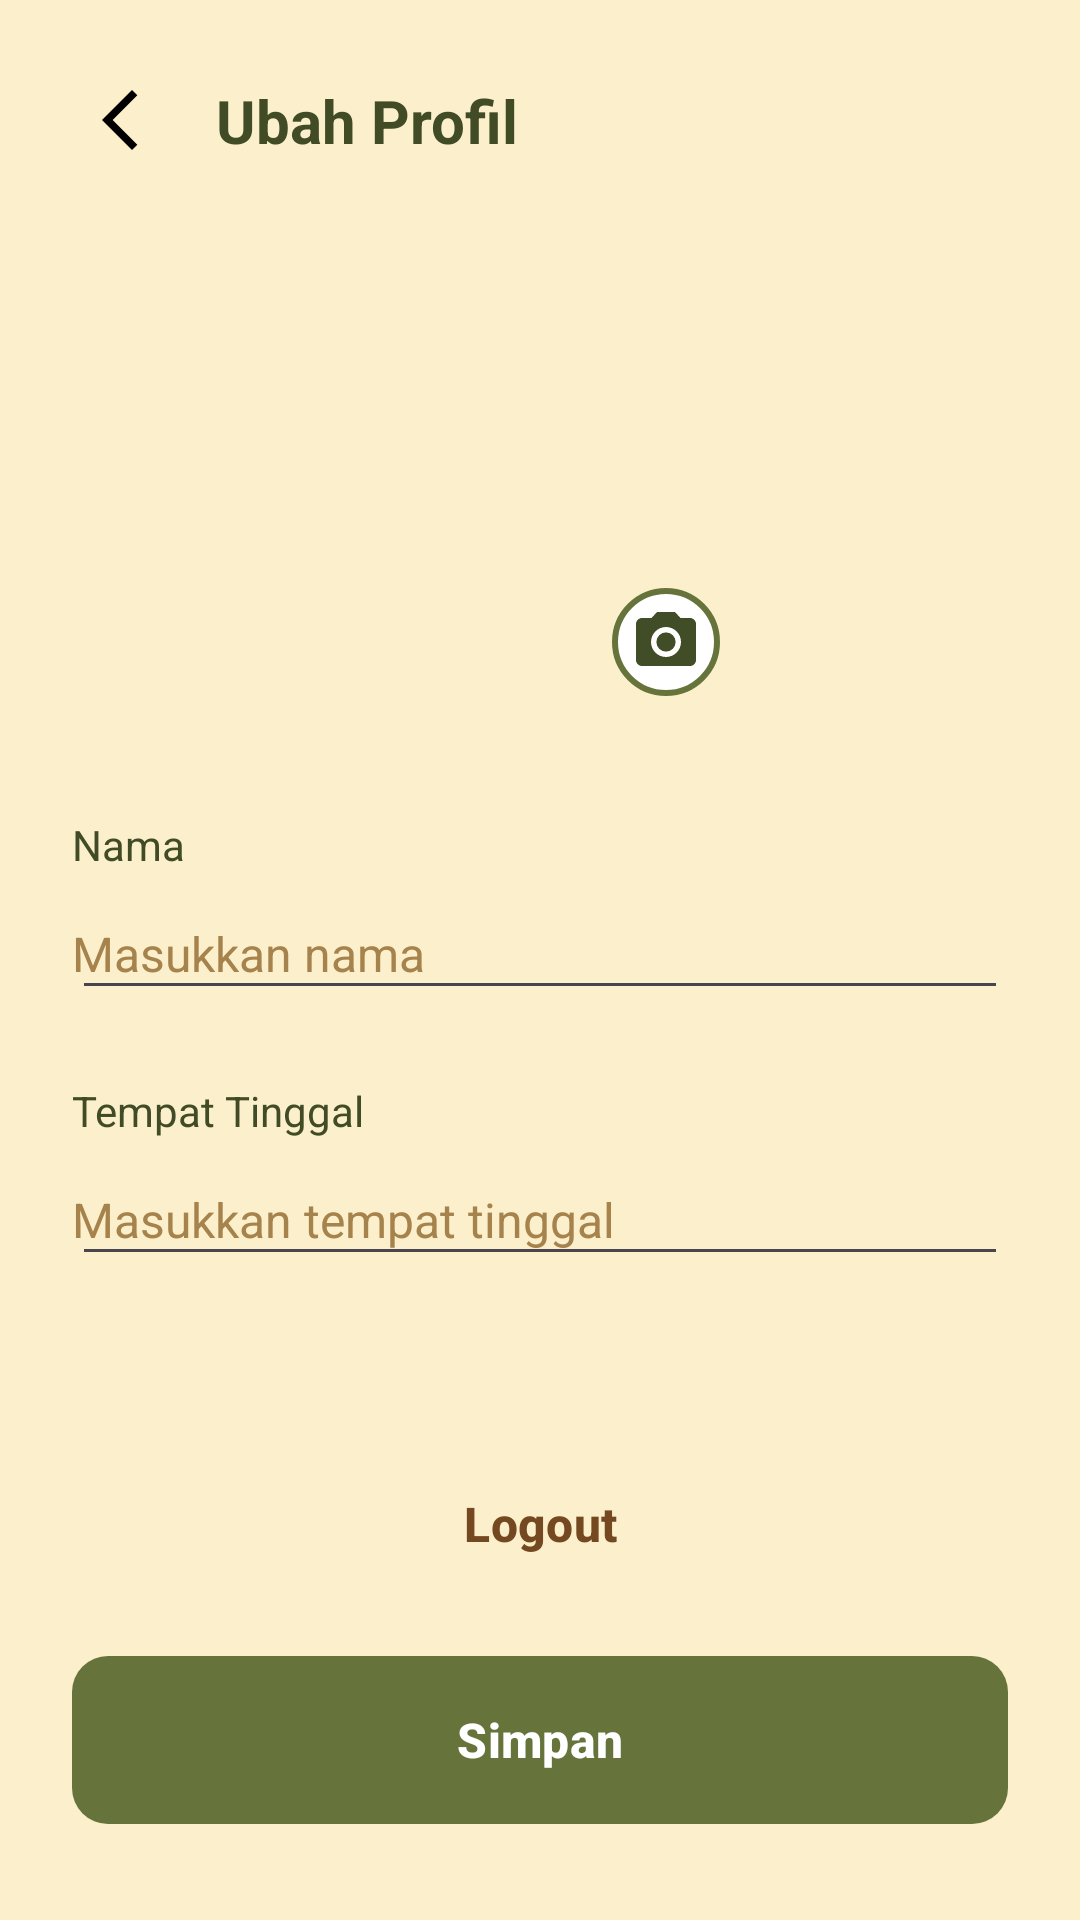

Screen size 1080px×1920px. Icon name, then its center in pixels as (x=x, y=y):
back profile: (x=119, y=120)
camera profile: (x=666, y=642)
